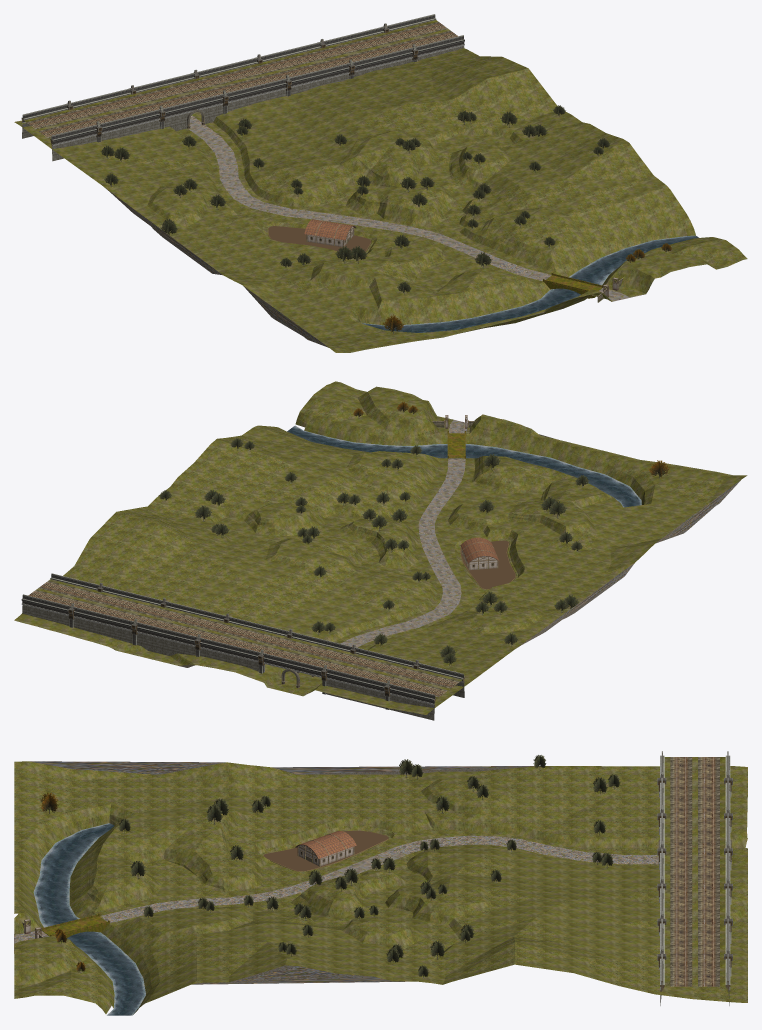
The model's file is NorthKreuzenHighway3.obj.
The picture shows the model from 3 angles, top to bottom: view 1: azimuth 30°, elevation 25°; view 2: azimuth 150°, elevation 25°; view 3: azimuth 270°, elevation 25°; orthographic projection. The views are drawn at different scales.
Parts seen in each view (by area): view 1: Object.072, Object.064, Object.069, Object.058, Object.055, Object.067, Object.070, Object.052, Object.065, Object.061, Object.056, Object.063; view 2: Object.072, Object.064, Object.069, Object.058, Object.055, Object.067, Object.070, Object.052, Object.065, Object.061, Object.063; view 3: Object.072, Object.064, Object.067, Object.058, Object.055, Object.052, Object.069, Object.065, Object.061, Object.056, Object.063, Object.060.
Boxes of the visible parts, <box> form: Object.072: <box>14,48,747,352</box>; Object.064: <box>26,21,457,138</box>; Object.069: <box>21,14,464,145</box>; Object.058: <box>100,105,610,294</box>; Object.055: <box>189,116,645,301</box>; Object.067: <box>362,235,698,332</box>; Object.070: <box>22,45,464,161</box>; Object.052: <box>24,20,450,139</box>; Object.065: <box>268,226,371,251</box>; Object.061: <box>66,23,418,142</box>; Object.056: <box>543,272,602,298</box>; Object.063: <box>304,219,353,240</box>; Object.072: <box>14,381,747,714</box>; Object.064: <box>28,581,459,697</box>; Object.069: <box>21,573,464,705</box>; Object.058: <box>158,438,589,665</box>; Object.055: <box>341,420,467,647</box>; Object.067: <box>287,425,641,507</box>; Object.070: <box>22,605,464,720</box>; Object.052: <box>36,579,462,698</box>; Object.065: <box>460,540,515,589</box>; Object.061: <box>68,582,420,709</box>; Object.063: <box>460,537,498,563</box>; Object.072: <box>14,761,747,1014</box>; Object.064: <box>670,757,719,986</box>; Object.067: <box>33,823,145,1015</box>; Object.058: <box>118,755,620,978</box>; Object.055: <box>14,835,658,953</box>; Object.052: <box>664,757,725,986</box>; Object.069: <box>660,751,730,991</box>; Object.065: <box>263,830,388,871</box>; Object.061: <box>657,774,732,976</box>; Object.056: <box>41,913,109,937</box>; Object.063: <box>300,831,356,858</box>; Object.060: <box>40,792,85,972</box>.
Size of the model in its own units: 196 by 25.09 by 265.
25 materials, 25 textured.
